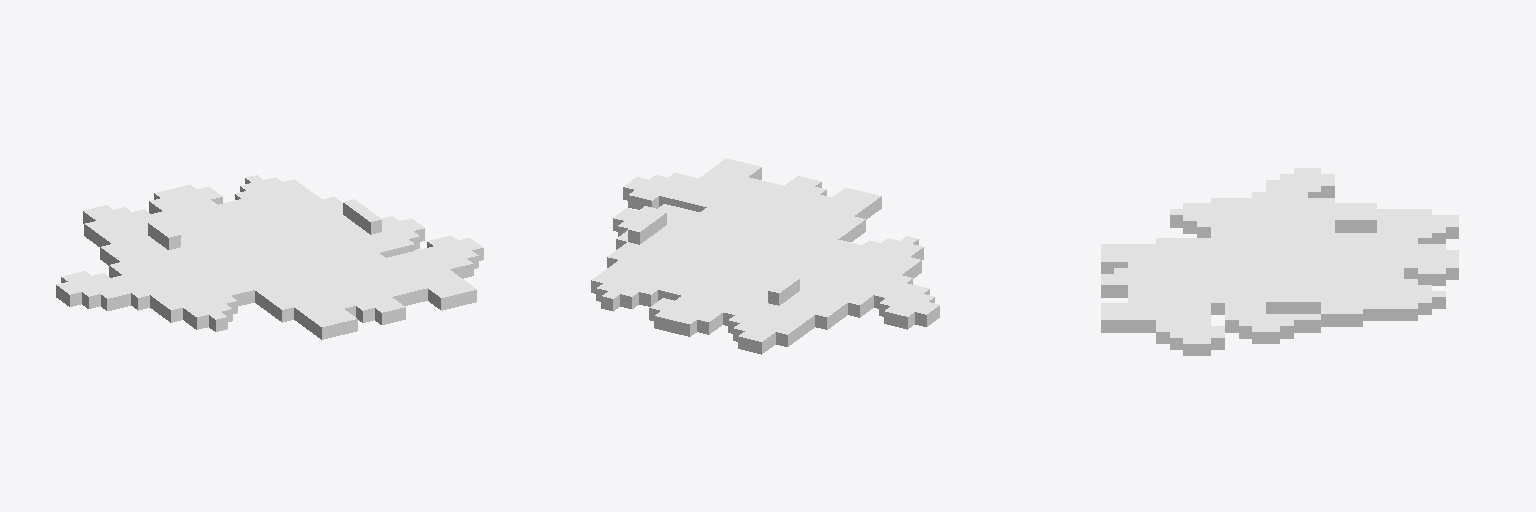
File: temi.obj
3 renders of one model, left to right at view 1: azimuth 30°, elevation 25°; view 2: azimuth 150°, elevation 25°; view 3: azimuth 270°, elevation 25°, orthographic.
Bounding box in the file's own units: 30 × 2 × 26.